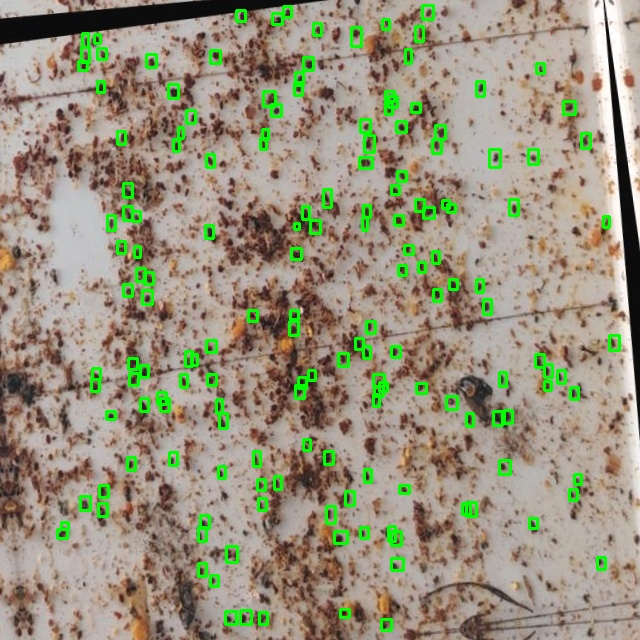varroa: (489, 149, 500, 167), (351, 27, 361, 46), (263, 91, 275, 106), (226, 546, 237, 562), (364, 135, 374, 152), (563, 101, 575, 114), (334, 531, 347, 543), (499, 460, 510, 474), (422, 5, 433, 19), (240, 610, 251, 624), (326, 506, 335, 523), (528, 149, 538, 164), (609, 335, 619, 350), (509, 199, 518, 215), (391, 558, 403, 570), (323, 189, 331, 207), (446, 396, 457, 409), (359, 157, 372, 168), (225, 611, 236, 624), (435, 125, 445, 139), (466, 502, 476, 516), (391, 531, 401, 545), (168, 84, 178, 98), (142, 290, 152, 304), (80, 496, 90, 510), (581, 133, 590, 148), (373, 374, 384, 386), (303, 57, 313, 70), (360, 119, 370, 132), (338, 353, 348, 366), (310, 220, 320, 233), (210, 50, 220, 63), (146, 54, 156, 67), (493, 411, 502, 425), (432, 139, 441, 153), (345, 491, 354, 505), (289, 321, 298, 335), (123, 183, 132, 197), (123, 206, 132, 220), (423, 207, 434, 218), (476, 81, 484, 96), (483, 299, 491, 314), (415, 26, 423, 41), (271, 104, 281, 116), (81, 47, 89, 62), (107, 215, 115, 230), (206, 340, 216, 352), (219, 413, 227, 428), (535, 354, 544, 367), (324, 451, 333, 464), (295, 385, 304, 398), (200, 515, 209, 528), (186, 110, 195, 123), (136, 268, 145, 281), (160, 398, 169, 411), (98, 503, 107, 516), (198, 527, 206, 541), (272, 13, 282, 24), (396, 121, 406, 132), (291, 248, 301, 259), (381, 619, 391, 630), (415, 199, 424, 211), (366, 321, 375, 333), (157, 392, 166, 404), (129, 373, 138, 385), (144, 272, 153, 284), (123, 284, 132, 296), (99, 485, 108, 497), (388, 526, 395, 541), (253, 451, 260, 466), (185, 351, 192, 366), (544, 364, 552, 377), (557, 370, 565, 383), (504, 410, 512, 423), (295, 72, 303, 85), (294, 82, 302, 95), (198, 563, 206, 576), (205, 225, 213, 238), (206, 154, 214, 167), (117, 131, 125, 144), (169, 452, 177, 465), (140, 398, 148, 411), (127, 457, 135, 470), (416, 383, 426, 393), (388, 96, 397, 107), (391, 346, 400, 357), (248, 310, 257, 321), (236, 10, 245, 21), (97, 48, 106, 59), (207, 374, 216, 385), (128, 358, 137, 369), (499, 372, 506, 386), (570, 387, 578, 399), (597, 557, 605, 569), (313, 23, 321, 35), (433, 289, 441, 301), (259, 612, 267, 624), (258, 498, 266, 510), (140, 365, 148, 377), (117, 241, 125, 253), (91, 379, 99, 391), (476, 279, 483, 292), (466, 413, 473, 426), (364, 469, 371, 482), (302, 206, 309, 219), (274, 476, 281, 489), (180, 374, 187, 387), (385, 91, 394, 101), (397, 171, 406, 181), (394, 215, 403, 225), (374, 386, 383, 396), (57, 529, 67, 538), (569, 489, 577, 500), (283, 6, 291, 17), (355, 338, 363, 349), (462, 503, 470, 514), (360, 527, 368, 538), (298, 377, 306, 388), (210, 575, 218, 586), (257, 479, 265, 490), (92, 368, 100, 379), (405, 49, 411, 63), (385, 102, 392, 114), (432, 251, 439, 263), (363, 346, 370, 358), (363, 205, 370, 217), (218, 466, 225, 478), (82, 33, 88, 47), (216, 399, 222, 413), (411, 103, 420, 112), (404, 245, 413, 254), (78, 61, 87, 70), (529, 518, 537, 528), (536, 63, 544, 73), (398, 265, 406, 275), (449, 279, 457, 289), (399, 485, 409, 493), (132, 211, 140, 221), (303, 439, 310, 450), (97, 81, 104, 92), (391, 185, 399, 194), (379, 382, 387, 391), (373, 394, 379, 406), (290, 310, 298, 319), (340, 609, 349, 617), (173, 139, 179, 151), (106, 411, 115, 419), (574, 474, 581, 484), (382, 19, 389, 29), (418, 262, 425, 272), (308, 370, 315, 380), (603, 216, 609, 227), (260, 138, 266, 149), (134, 246, 140, 257), (191, 354, 197, 365), (362, 217, 367, 230), (447, 204, 455, 212), (544, 381, 551, 390), (262, 129, 268, 139), (442, 200, 449, 208), (178, 127, 183, 138), (94, 34, 100, 43), (61, 522, 68, 529), (294, 223, 299, 229)
